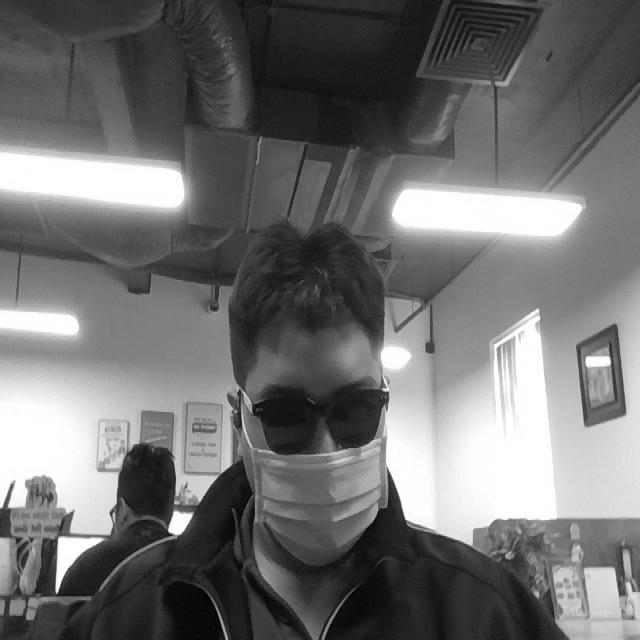fake: (249, 443, 394, 568), (229, 378, 395, 451)
